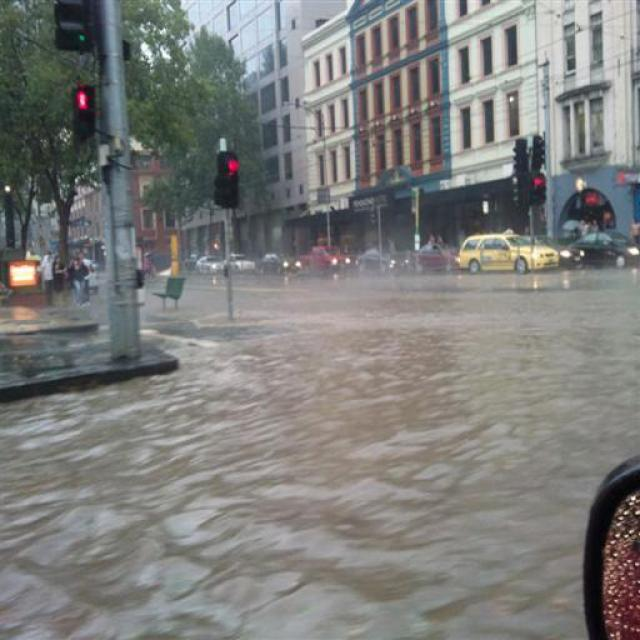puddle: (4, 404, 605, 640), (201, 312, 627, 454)
